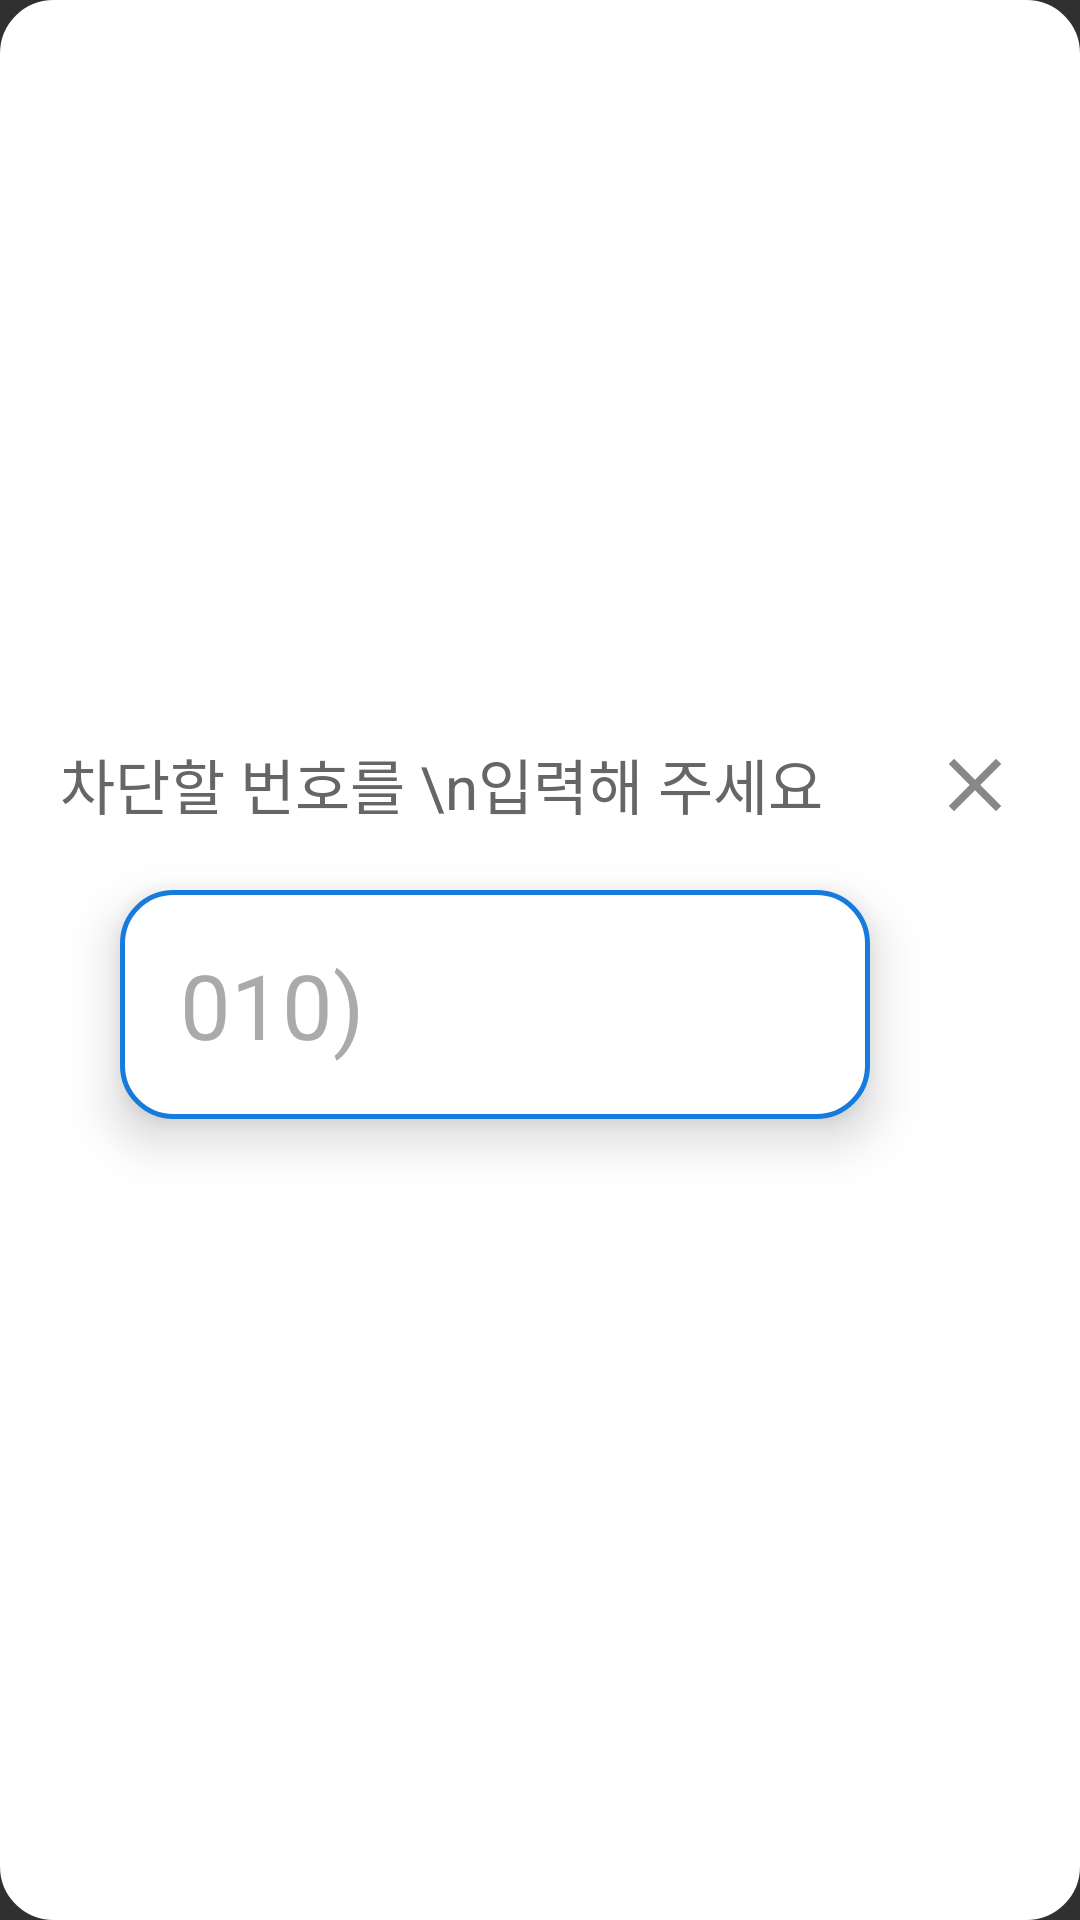

Named icons in this screenshot (1080*1920) and their bounding boxes, Rect(x1, y1, x2, y2):
clear: Rect(949, 759, 1001, 811)
